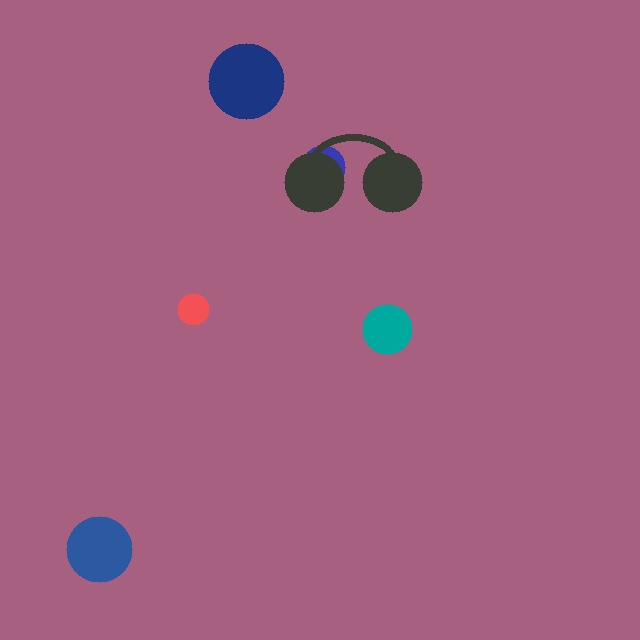over_ear: (280, 125, 426, 216)
